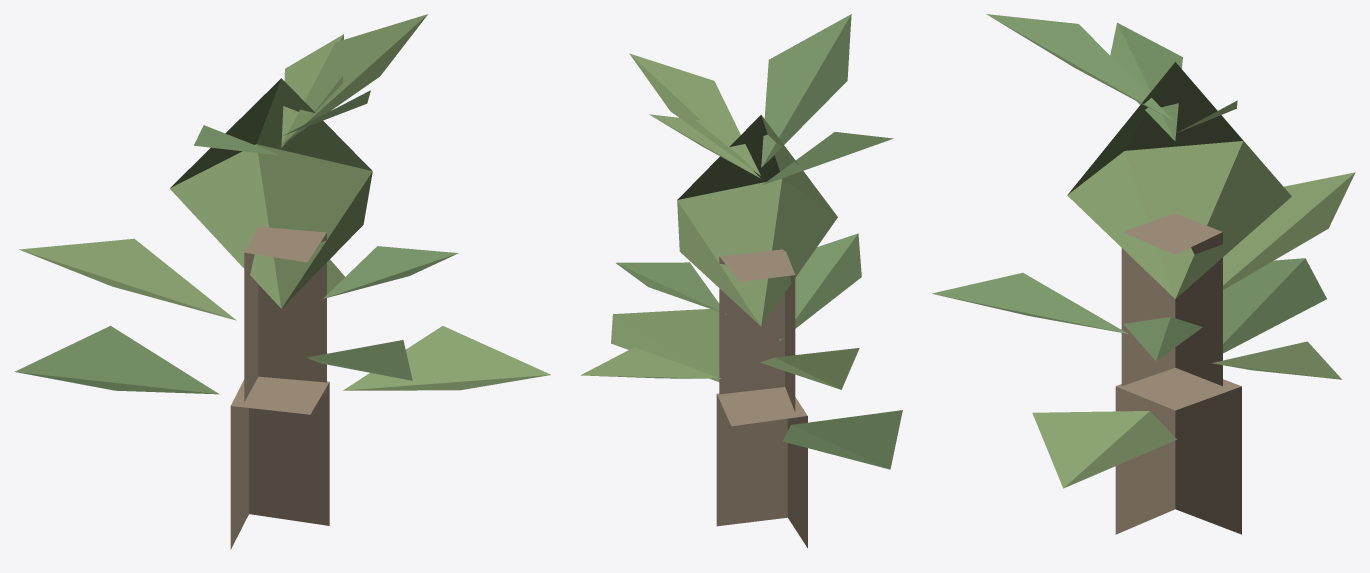
The model's file is cao.shamo@seedling__summer.glb.
The picture shows the model from 3 angles, left to right: view 1: azimuth 30°, elevation 25°; view 2: azimuth 150°, elevation 25°; view 3: azimuth 270°, elevation 25°; orthographic projection. The views are drawn at different scales.
Visible parts, largest first — view 1: cao.shamo@seedling__summer; view 2: cao.shamo@seedling__summer; view 3: cao.shamo@seedling__summer.
Part boxes in pixels (box(x1,y1,x2,y2)): cao.shamo@seedling__summer: box(14, 14, 550, 549); cao.shamo@seedling__summer: box(581, 14, 902, 548); cao.shamo@seedling__summer: box(932, 14, 1355, 534).
Bounding box in the file's own units: 0.1237 × 0.1417 × 0.1053.
